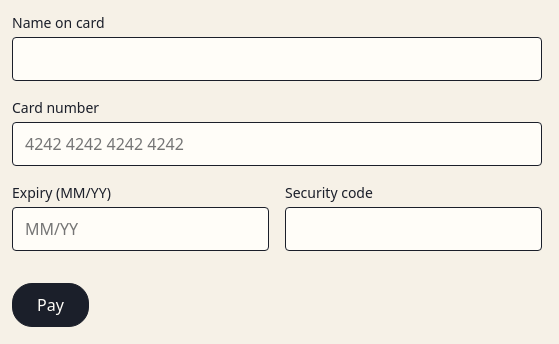
Test: CardForm input helpers › formats the expiry as you type
Type "1225" into the field labelled "Expiry (MM/YY)". click: (140, 229)
box: [12,207,269,251]
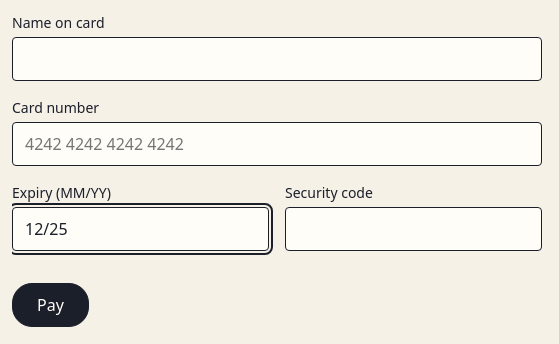
Now the field labelled "Expiry (MM/YY)" holds "12/25", box [12,207,269,251]
